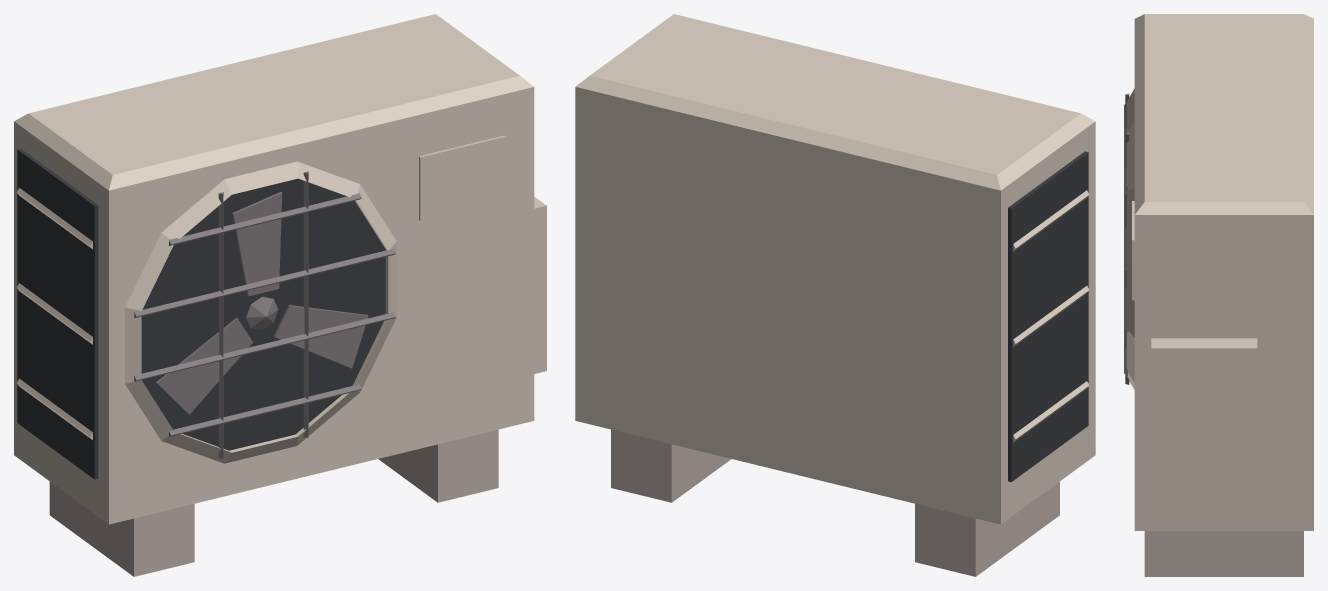
File: SM_Fixture_AcOutdoor_01.gltf
3 views of the same model, side by side, from view 1: azimuth 30°, elevation 25°; view 2: azimuth 150°, elevation 25°; view 3: azimuth 270°, elevation 25° (orthographic). The views are drawn at different scales.
Parts seen in each view (by area): view 1: SM_Fixture_AcOutdoor_01; view 2: SM_Fixture_AcOutdoor_01; view 3: SM_Fixture_AcOutdoor_01.
Part boxes in pixels (x1,y1,x2,y2): SM_Fixture_AcOutdoor_01: [14, 14, 546, 576]; SM_Fixture_AcOutdoor_01: [575, 14, 1095, 576]; SM_Fixture_AcOutdoor_01: [1124, 14, 1313, 576].
Size of the model in its own units: 0.745 by 0.64 by 0.286.
1 material, 1 textured.
